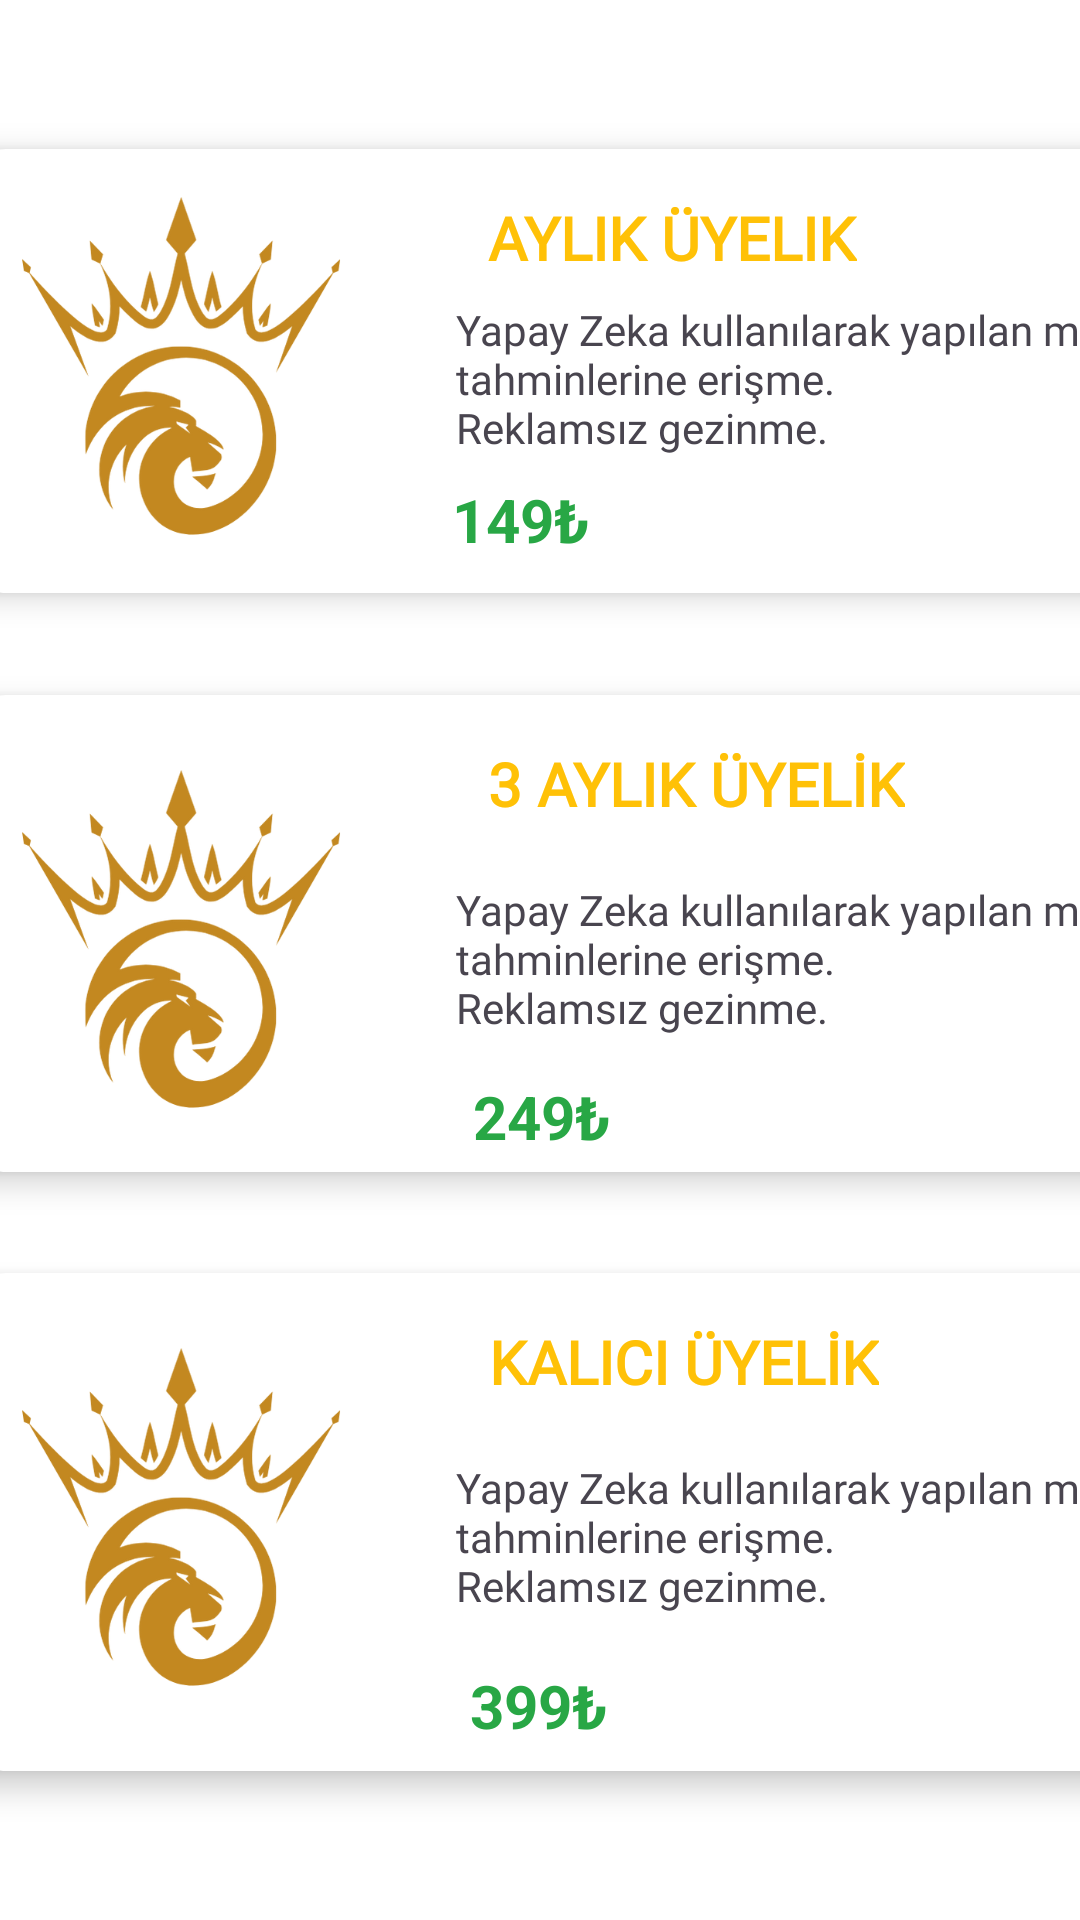

Where to tap for icons on this 1080px×1920px app screen, as (x=x, y=y):
vip: (x=181, y=366), (x=181, y=939), (x=181, y=1517)
